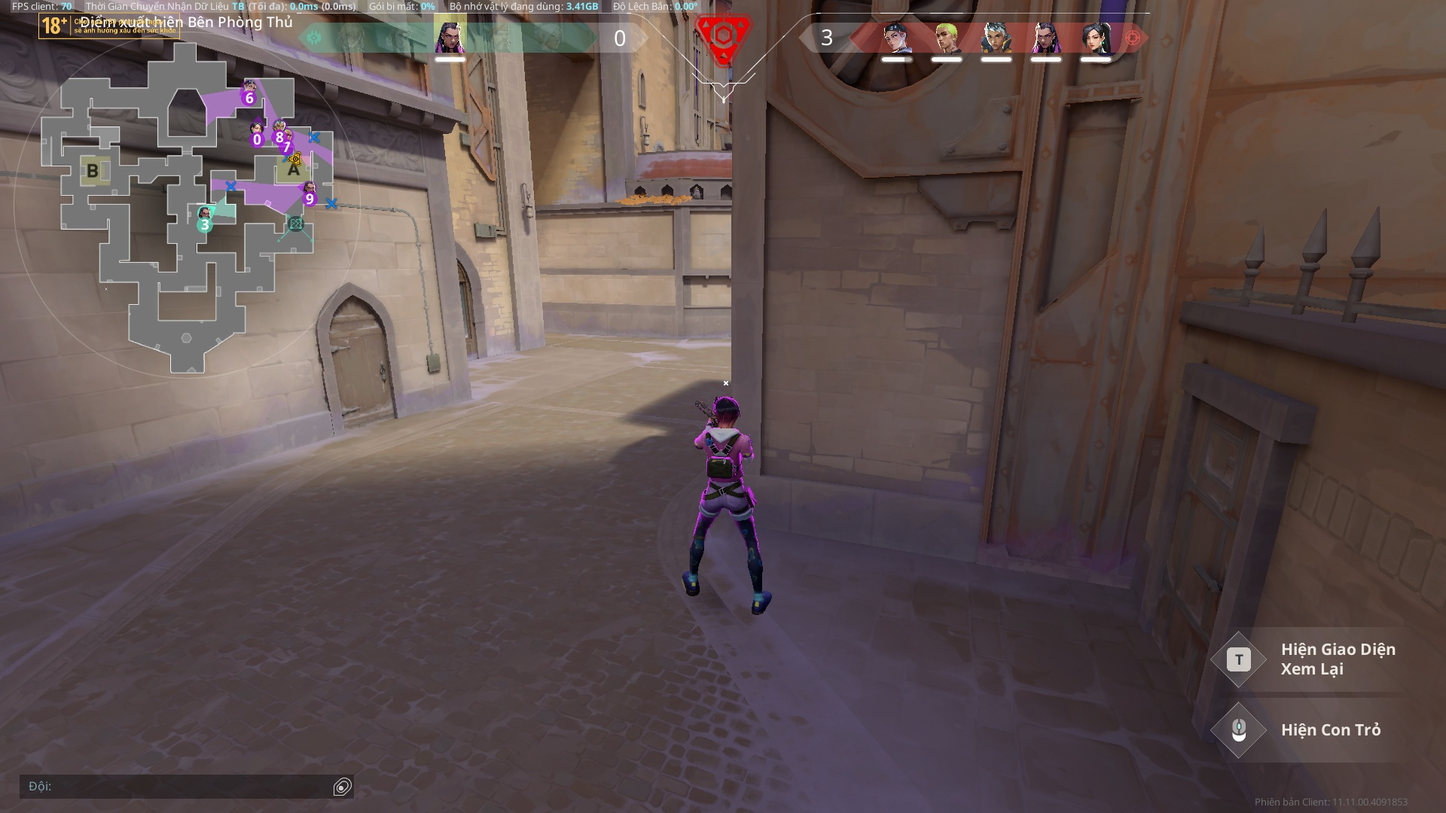body: (697, 424, 755, 476)
head: (712, 399, 739, 425)
